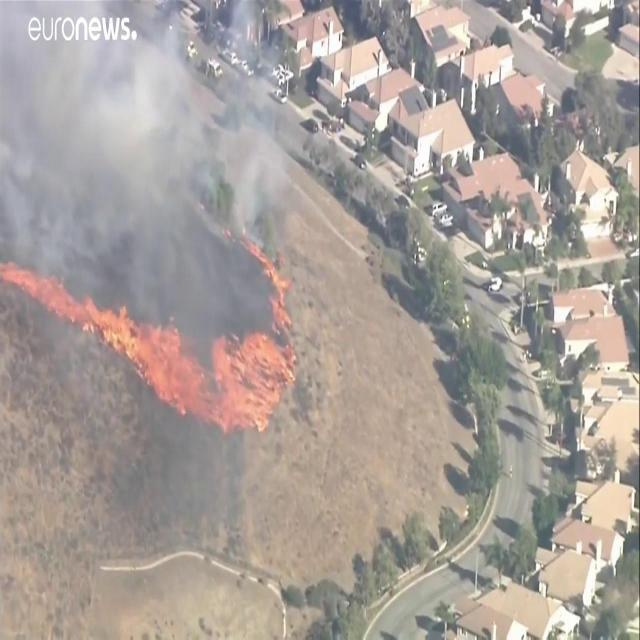Fire: (92, 302, 296, 426), (3, 263, 91, 334), (248, 238, 294, 334)
